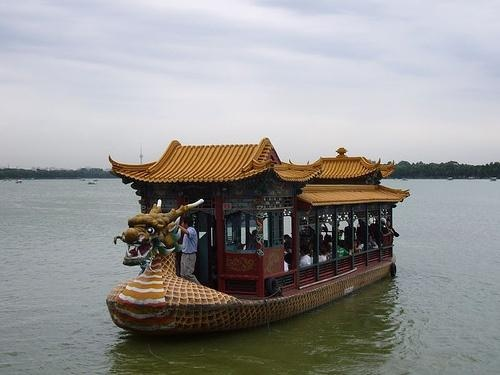boat: (104, 138, 412, 340)
